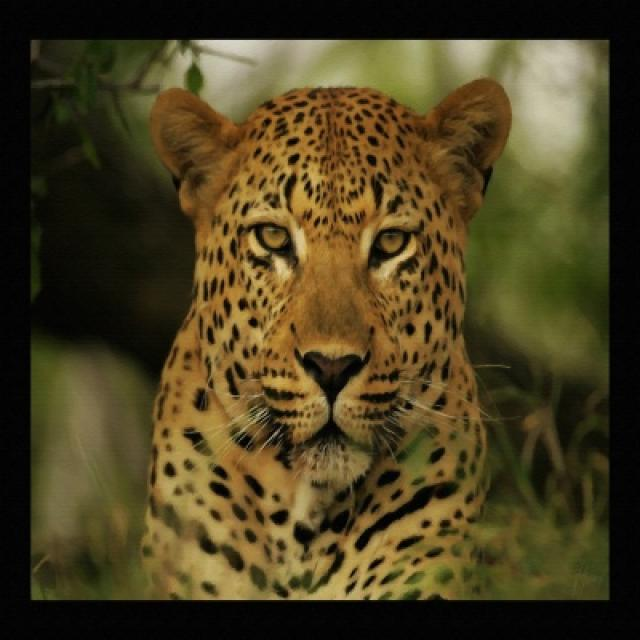Jaguar: (141, 78, 514, 598)
